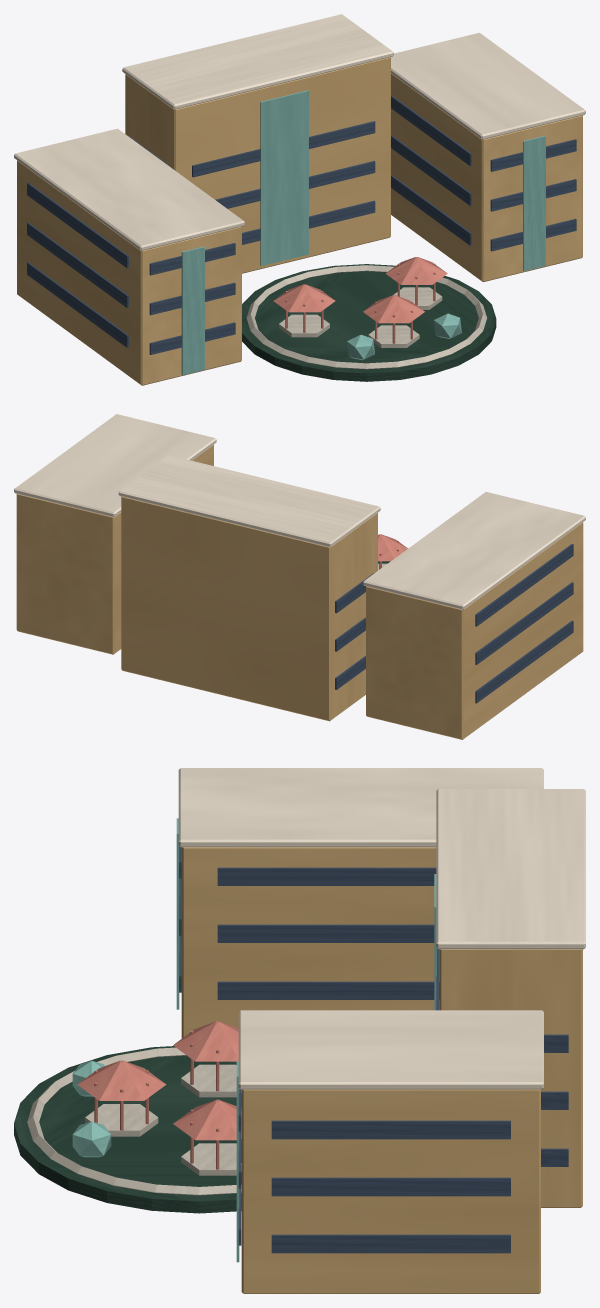
Rendered from german-university.glb.
3 renders of one model, top to bottom at view 1: azimuth 30°, elevation 25°; view 2: azimuth 150°, elevation 25°; view 3: azimuth 270°, elevation 25°, orthographic. The views are drawn at different scales.
Visible parts, largest first — view 1: german-university; view 2: german-university; view 3: german-university.
Boxes of the visible parts, box(x1,y1,x2,y2) form: german-university: box(14, 14, 585, 385); german-university: box(14, 414, 585, 739); german-university: box(14, 768, 585, 1293).
Bounding box in the file's own units: 12.9 × 4.97 × 9.55.
Materials: 1 (1 with a texture image).
